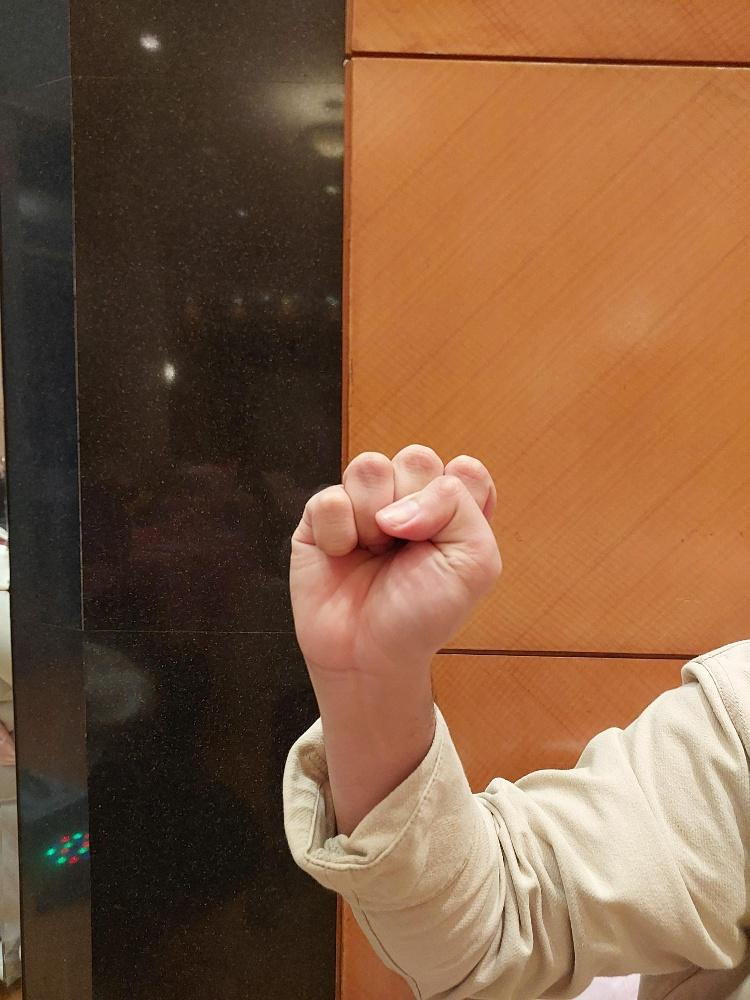s: (284, 441, 508, 675)
